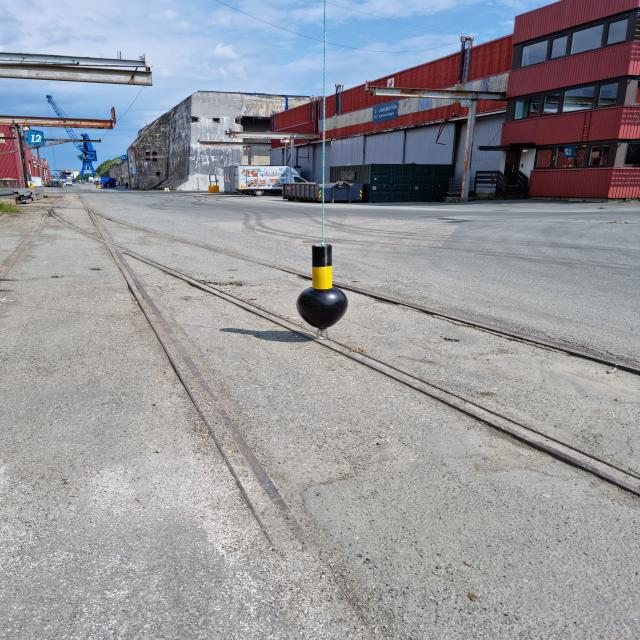east: (297, 245, 348, 329)
